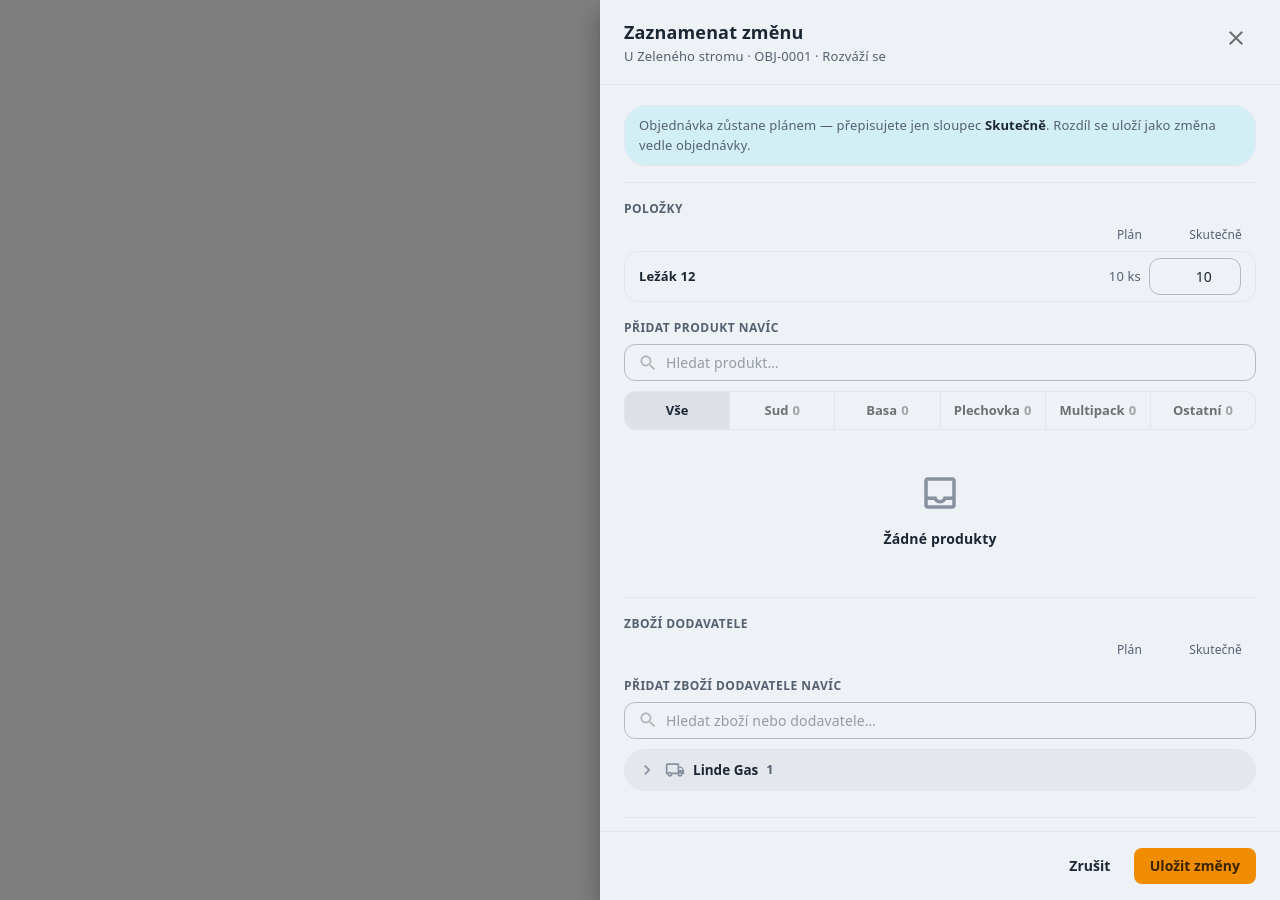
Test case: LedgerEntryDrawer › colours a shortfall as a shortfall, and says so
The width and height of the screenshot is (1280, 900).
Replace the text in the number field named "Ležák 12 — Skutečně" with "7". click: (1195, 277)
box: left=1149, top=258, right=1241, bottom=295
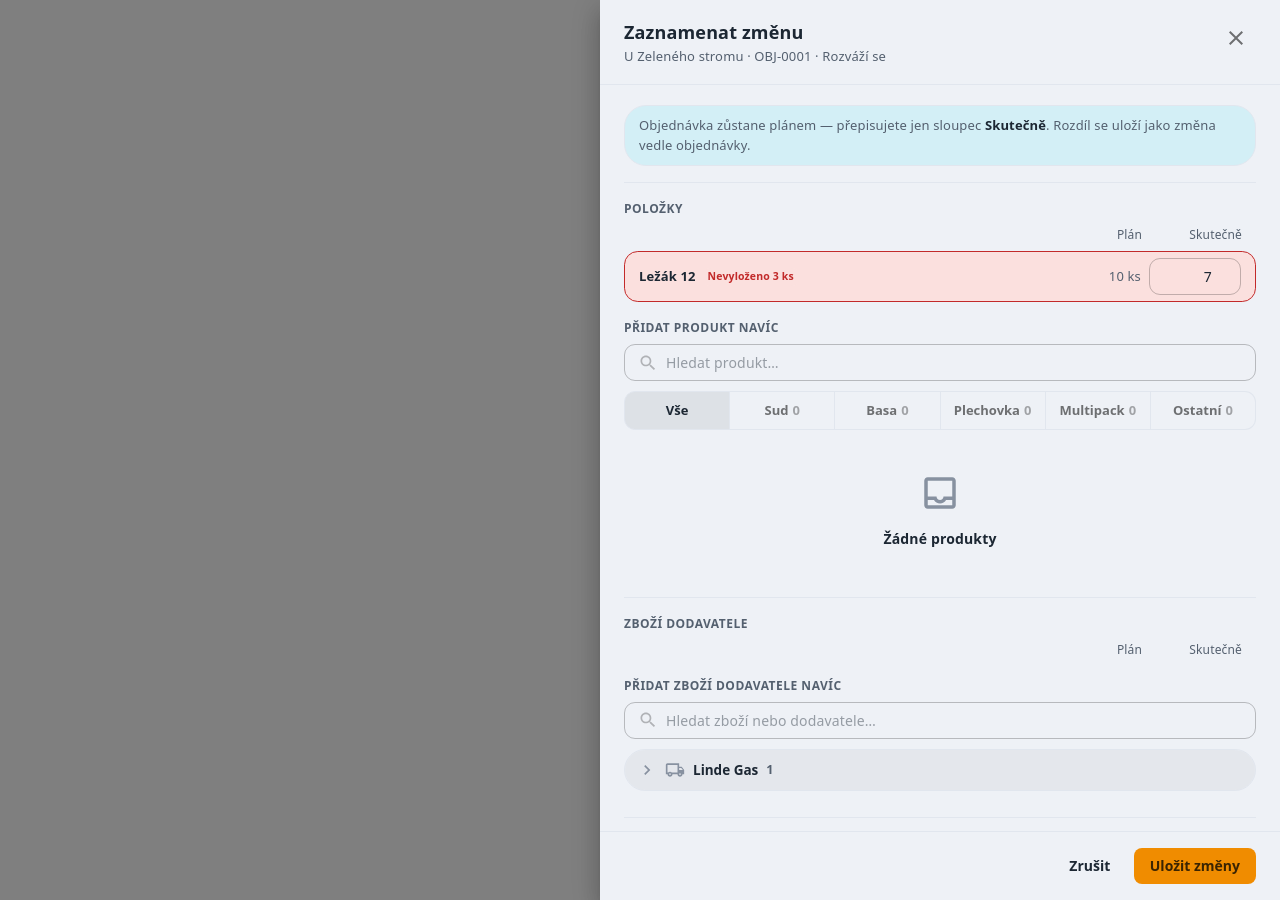
expect the text "Nevyloženo 3 ks" is shown: met, box left=702, top=268, right=800, bottom=286
